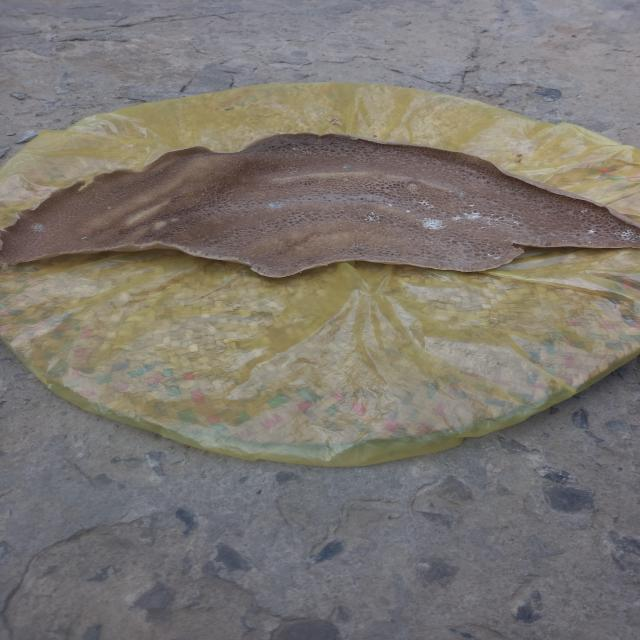injera_mold: (421, 218, 446, 232), (362, 210, 380, 225), (618, 229, 635, 241), (453, 215, 485, 220), (270, 200, 284, 208), (578, 206, 588, 215), (419, 200, 430, 208), (30, 224, 44, 230), (488, 216, 498, 224), (476, 225, 491, 230), (488, 253, 500, 259), (302, 150, 314, 156), (393, 215, 402, 223), (500, 215, 507, 225), (466, 202, 476, 208), (512, 219, 518, 228), (466, 211, 484, 214), (386, 204, 396, 208), (586, 229, 596, 233), (456, 192, 464, 197), (342, 165, 350, 169), (635, 232, 639, 240), (405, 209, 411, 214), (291, 170, 297, 174), (107, 207, 113, 210), (82, 236, 86, 240), (294, 148, 298, 151), (369, 195, 373, 198)
